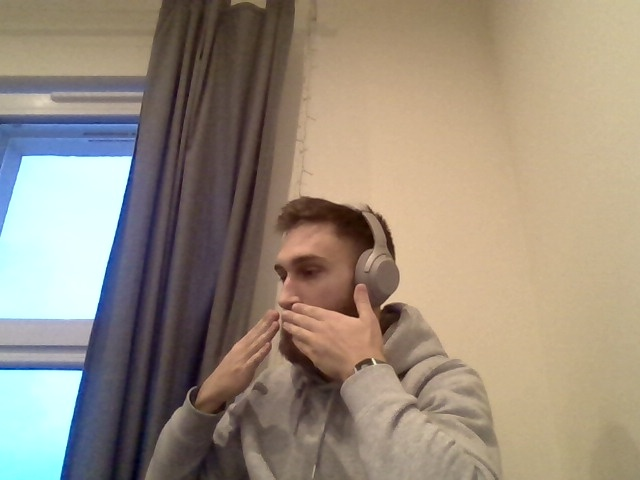ThankYou: (201, 284, 383, 407)
